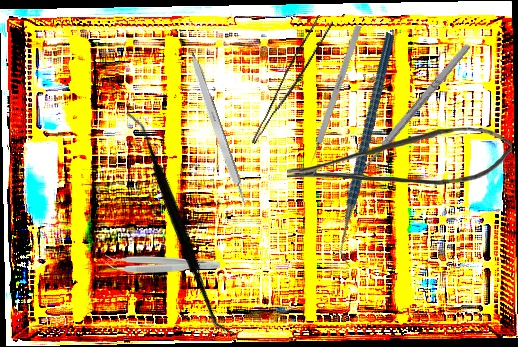Chopper: (270, 31, 469, 269)
Hook Surgical: (339, 40, 479, 201), (305, 24, 363, 171)
Micro Scissor: (287, 126, 512, 185)
Scalpel Handle: (185, 51, 249, 206)
Spatula Surgical: (55, 109, 305, 338)
Tissue Forceps: (251, 12, 334, 152), (105, 253, 220, 273)
